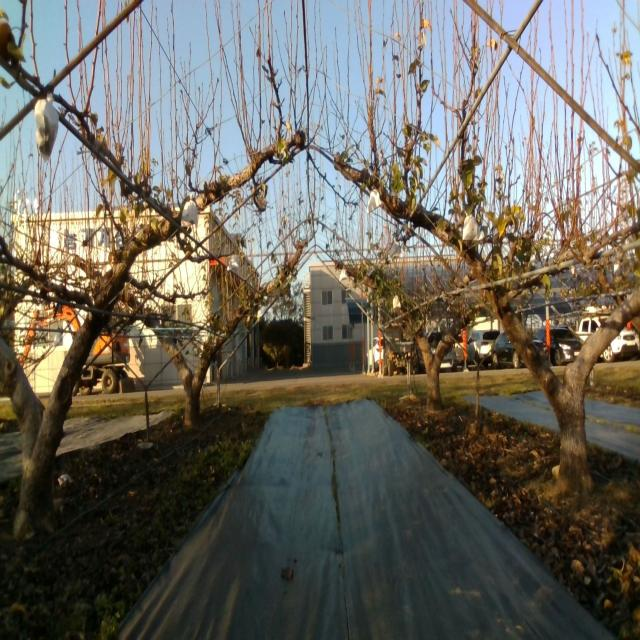pearbags: (34, 93, 59, 163), (181, 193, 198, 229), (462, 214, 483, 242), (366, 190, 382, 216), (388, 242, 404, 260)
